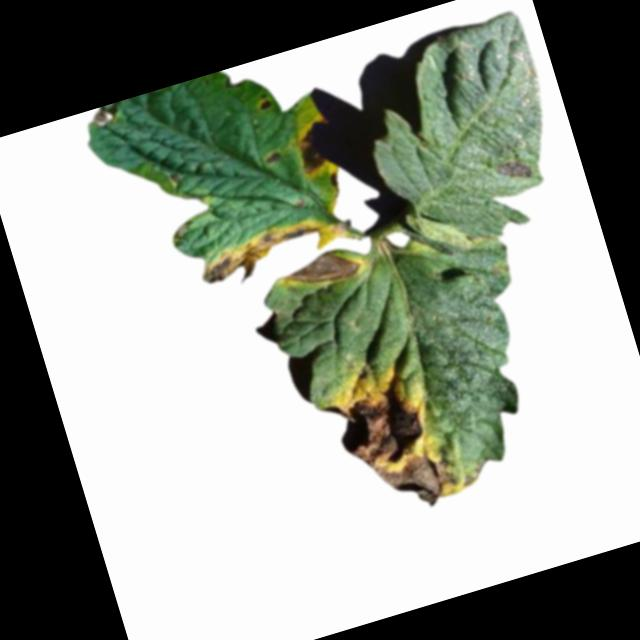Early_blight: (327, 370, 460, 525), (193, 211, 331, 293), (285, 246, 366, 295), (291, 135, 326, 176), (493, 154, 534, 184), (261, 147, 285, 165), (254, 93, 275, 110)
